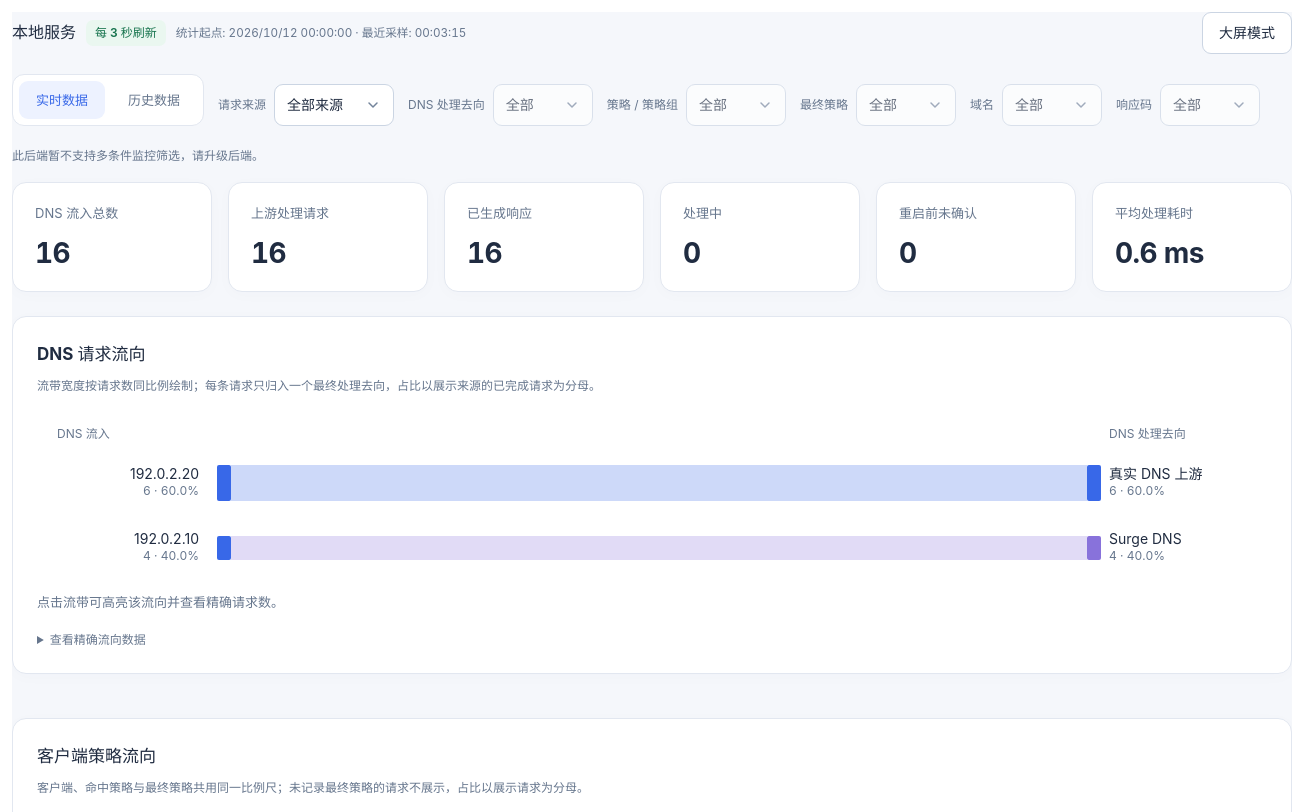
Test case: excludes legacy from source denominators in live and history while retaining stored totals
Check: the element with class "monitor-metrics" shows "16", box x1=35 y1=236 x2=70 y2=270
Click the button "历史数据": (154,100) x1=111 y1=81 x2=197 y2=119
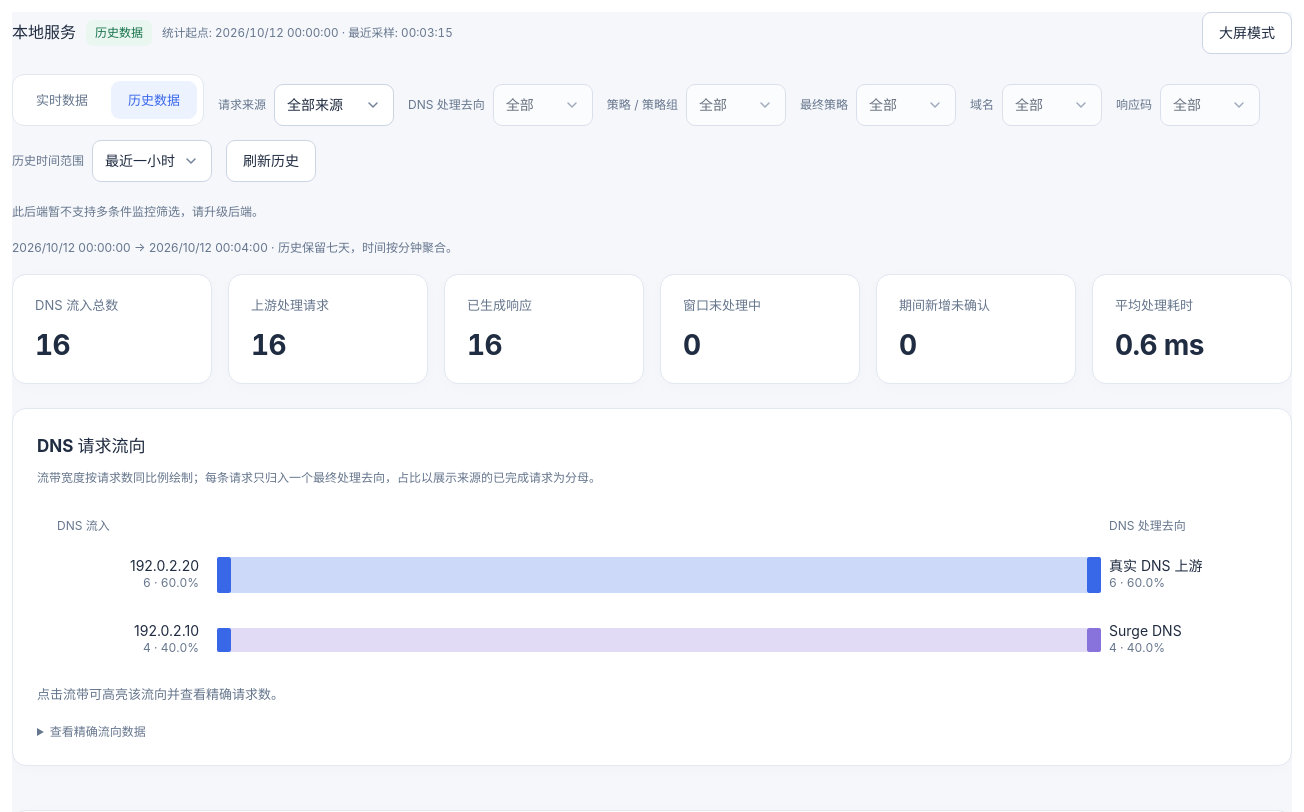
Check: the element with class "monitor-metrics" shows "16", box x1=35 y1=328 x2=70 y2=362
Check: the text "窗口末处理中" is shown, box x1=683 y1=297 x2=761 y2=313
